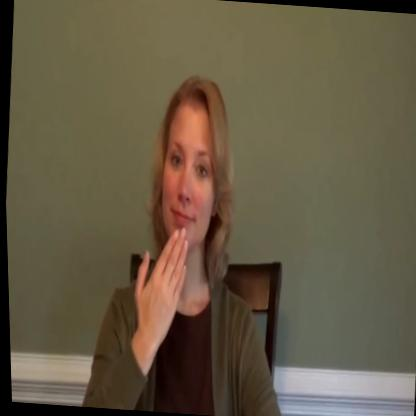ThankYou: (82, 65, 289, 416)
